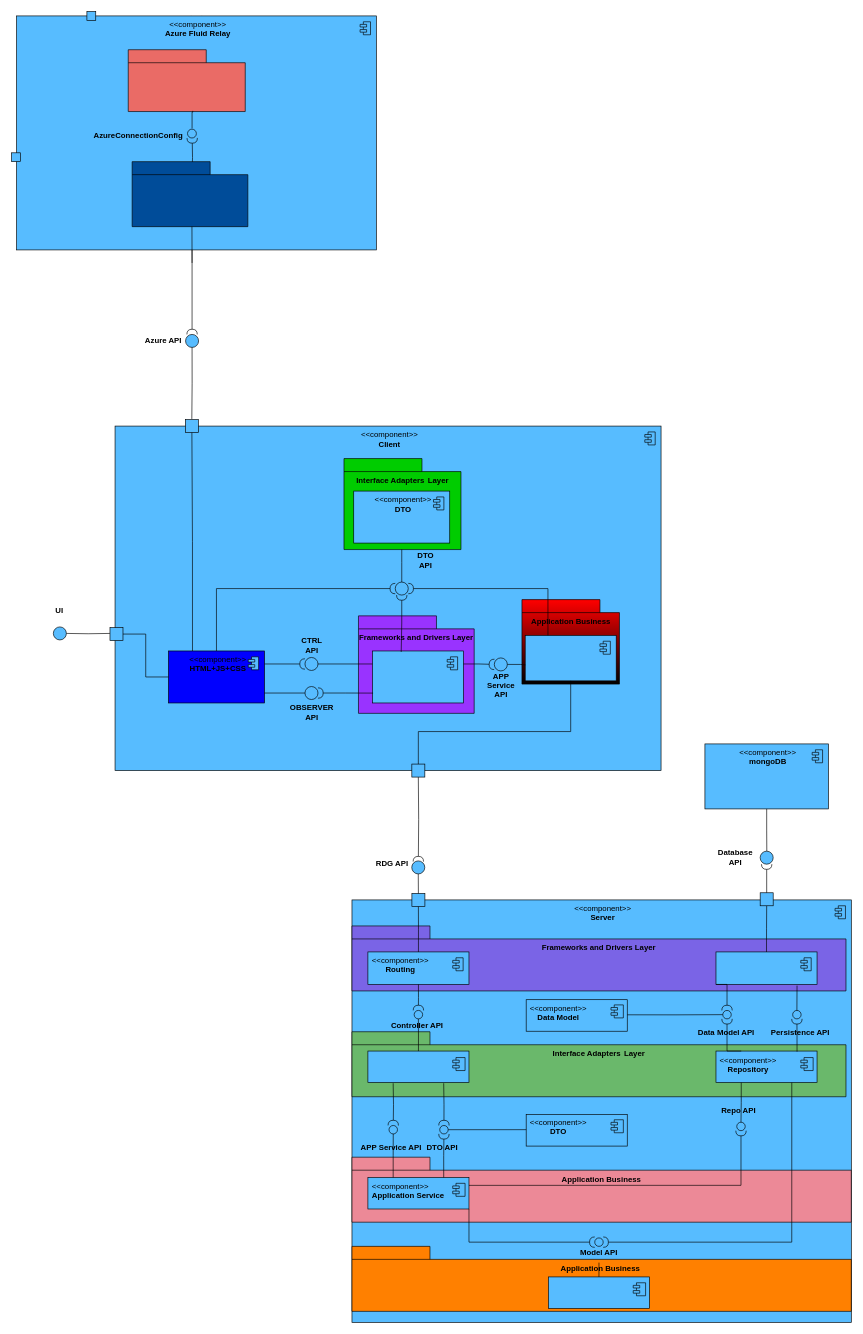
The diagram is 863 pixels wide and 1334 high, and some of its shapes have lost their labels. The shapes that lost their labels are listed below. From the top down, each one's centre as x and y in pixels, then its label:
At (x=186, y=80): "Storage".
At (x=189, y=194): "Service".
At (x=417, y=676): "<<component>> ViewComponent".
At (x=570, y=658): "<<component>> Service".
At (x=766, y=967): "<<component>> Persistence".
At (x=418, y=1066): "<<component>> Controller".
At (x=598, y=1292): "<<component>> Domain Model".
